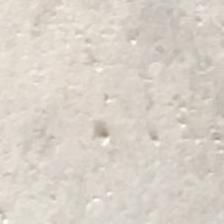Non_Crack: (31, 18, 224, 224)
